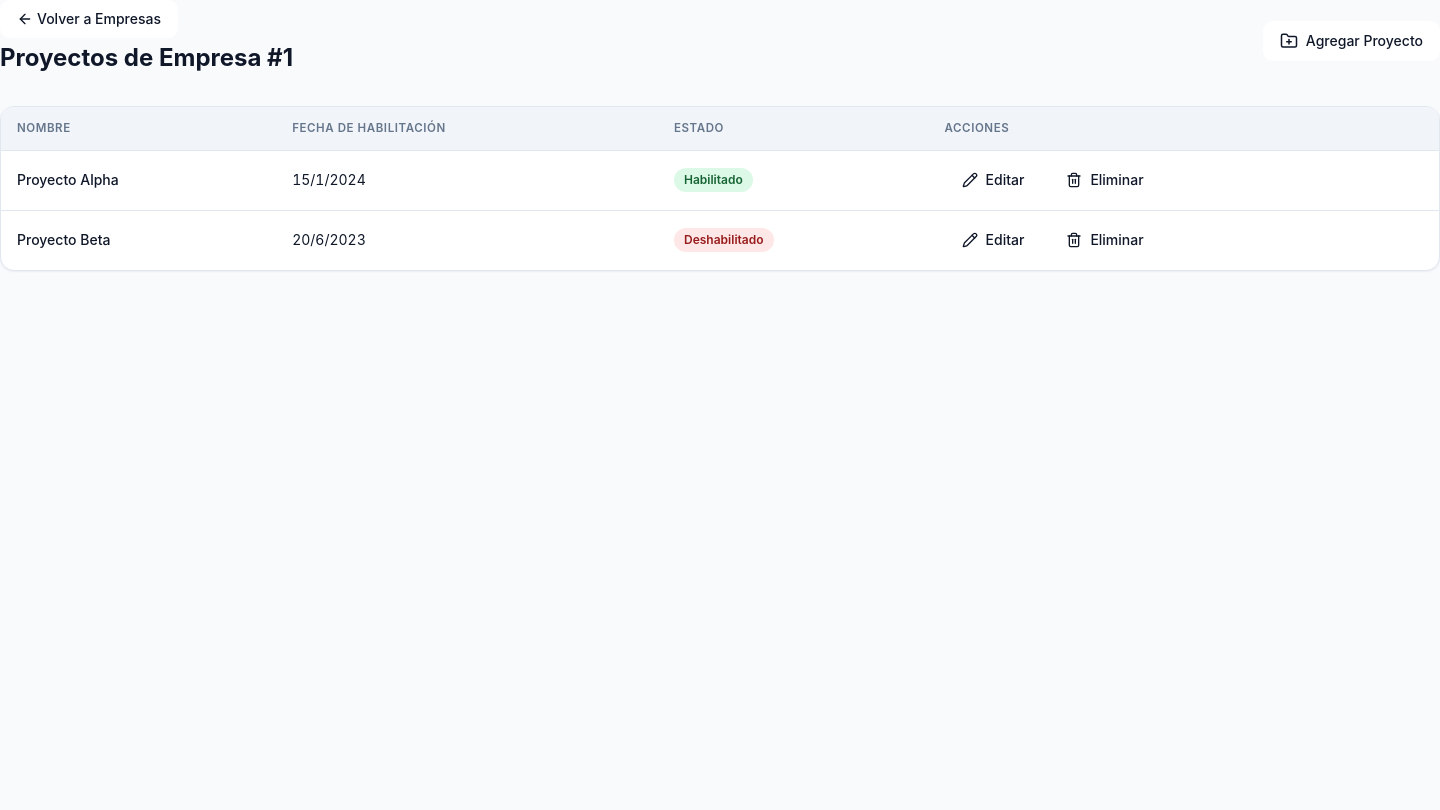
ProyectosPage Integration Tests › Create flow › should create a new proyecto: open modal → fill nombre and fecha → submit → table updated + success notification
expect the text "Proyecto Alpha" is shown: met, box left=1, top=150, right=276, bottom=210
Open create modal
Click the button "Agregar Proyecto" at (1351, 41), box left=1263, top=21, right=1439, bottom=61
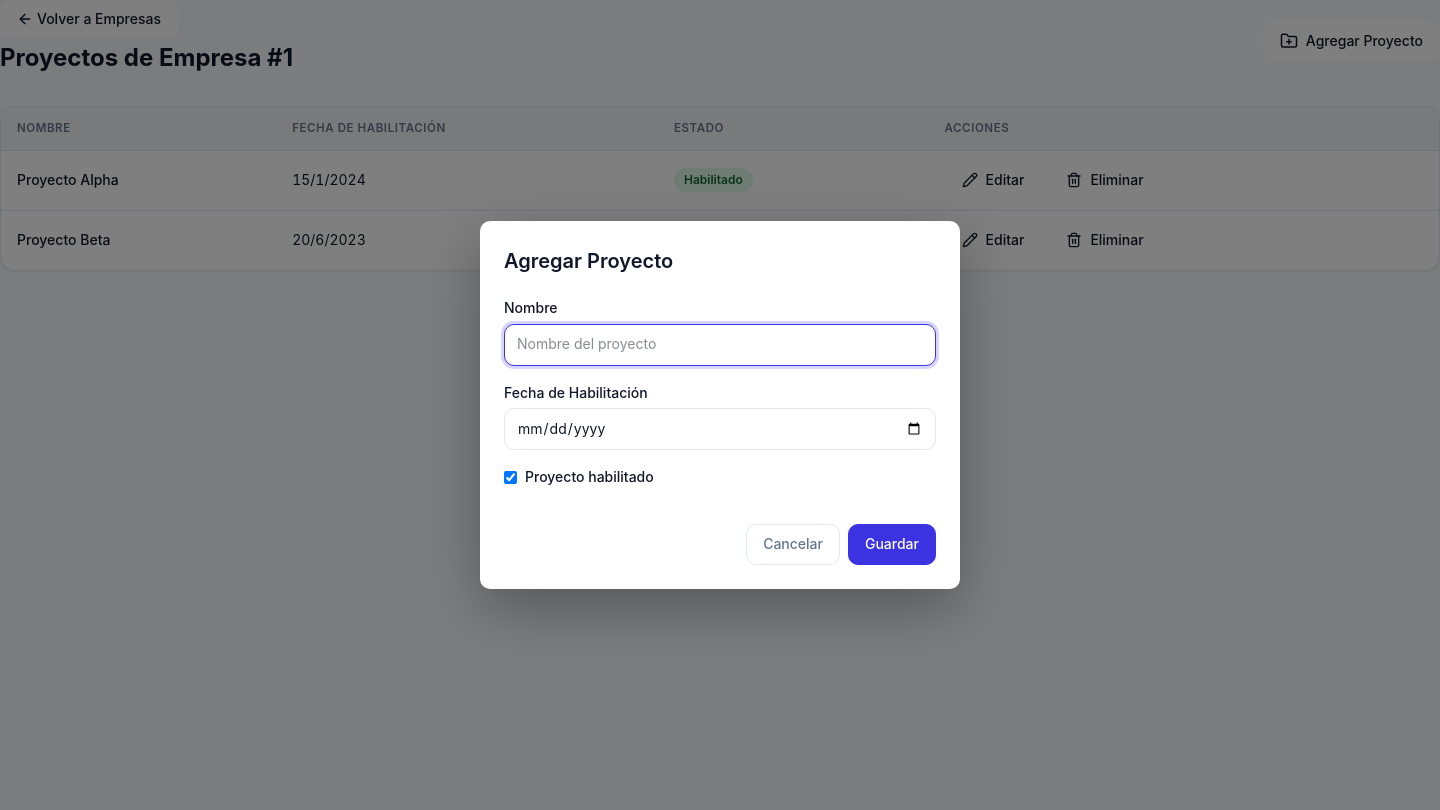
expect the dialog is shown: met, box left=480, top=221, right=960, bottom=589
Fill fields
Type "Proyecto Nuevo" into the field labelled "Nombre" at (720, 345), box left=504, top=324, right=936, bottom=366
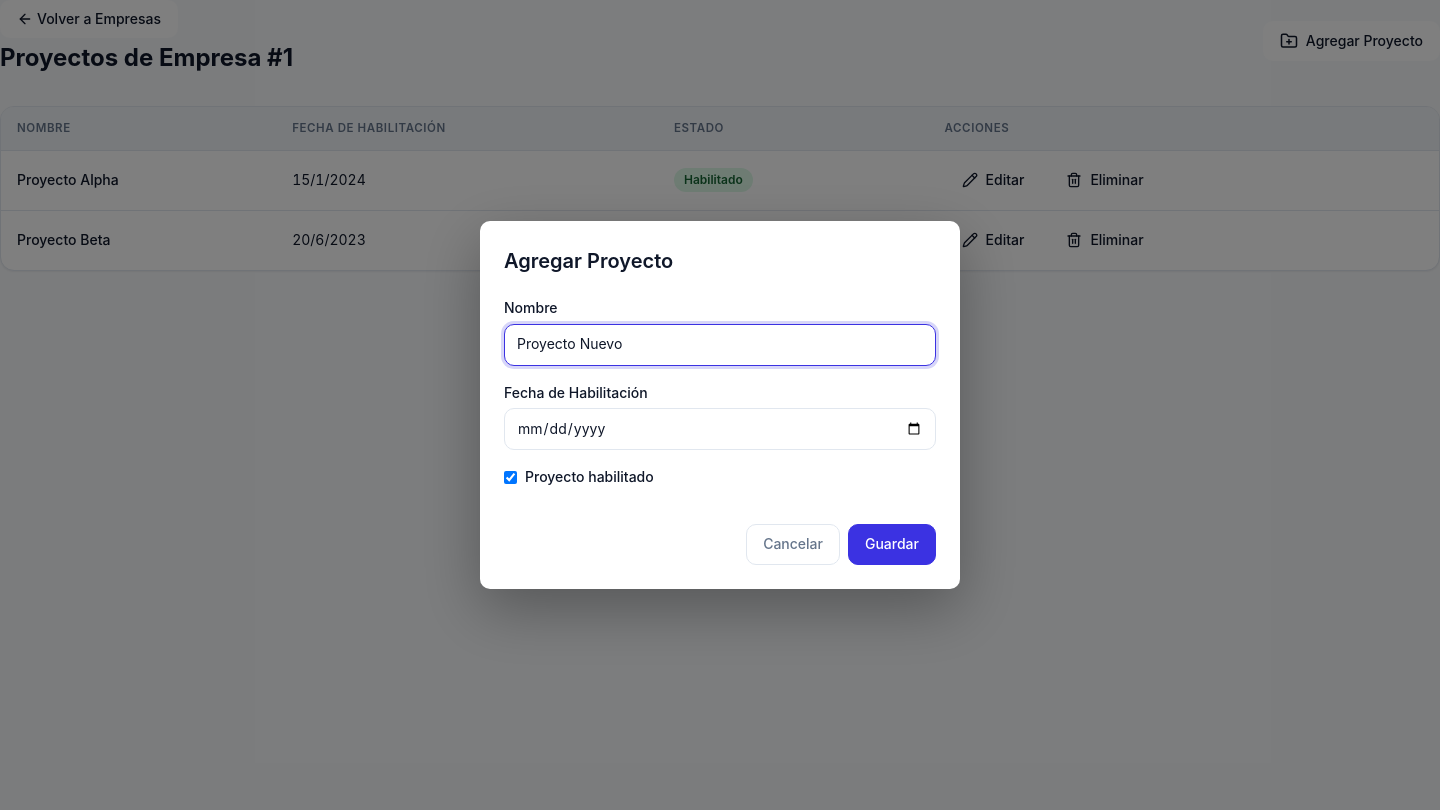
Type "2024-06-01" into the date field labelled "Fecha de Habilitación" at (720, 429), box left=504, top=408, right=936, bottom=450
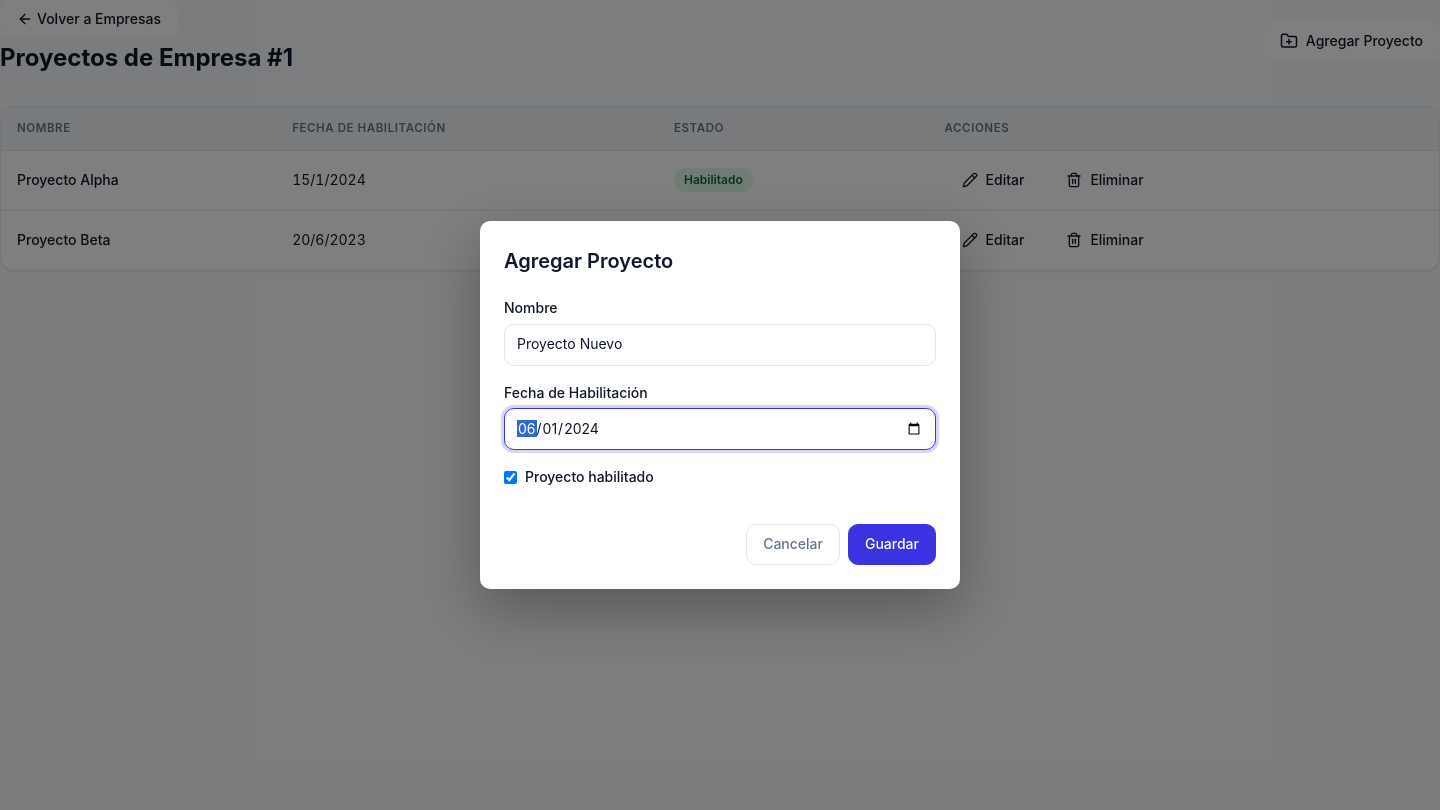
Click the button "Guardar" at (892, 545), box left=848, top=524, right=936, bottom=565
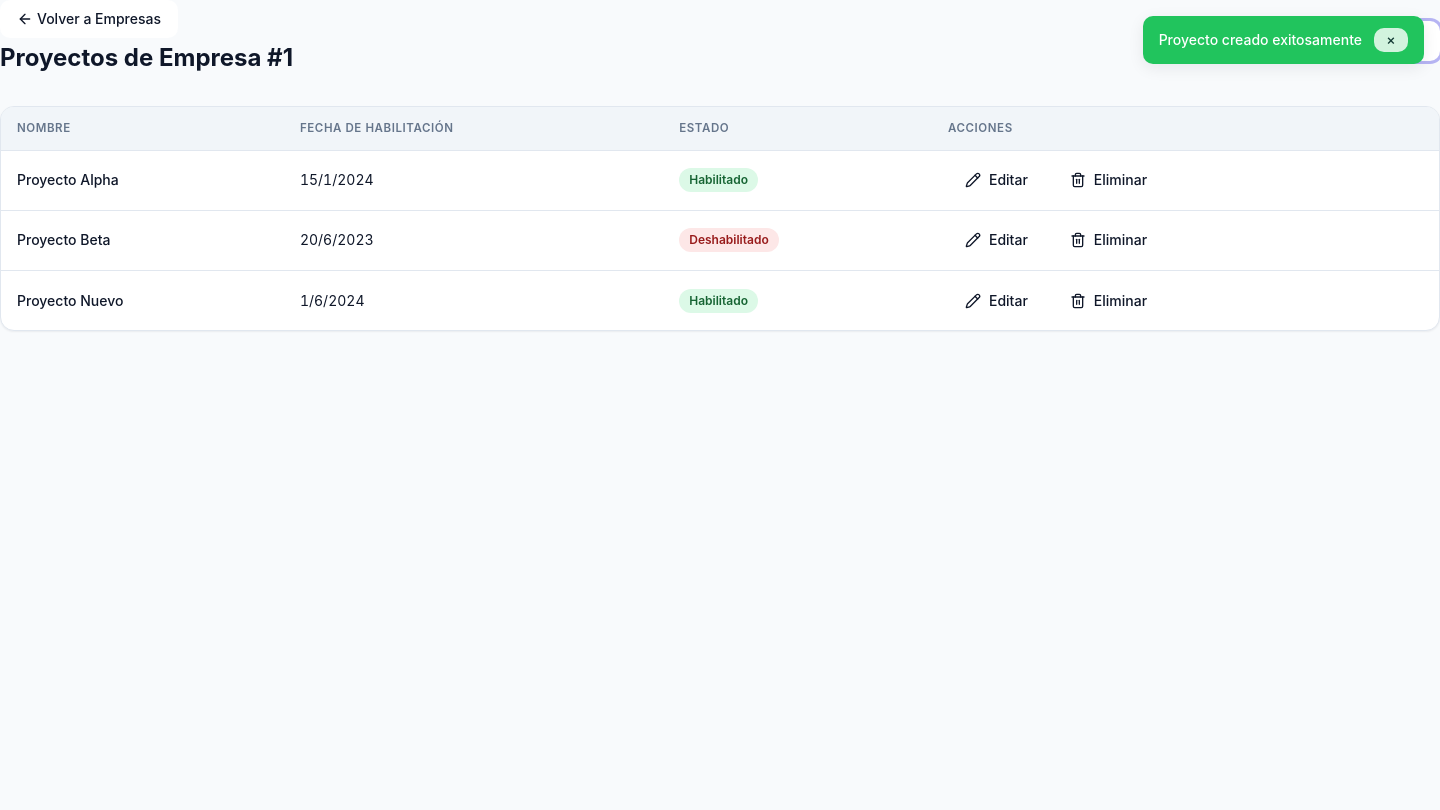
expect the dialog is gone: met
expect the text "Proyecto Nuevo" is shown: met, box left=1, top=270, right=284, bottom=330
expect the message "Proyecto creado exitosamente ×" is shown: met, box left=1143, top=16, right=1424, bottom=64
